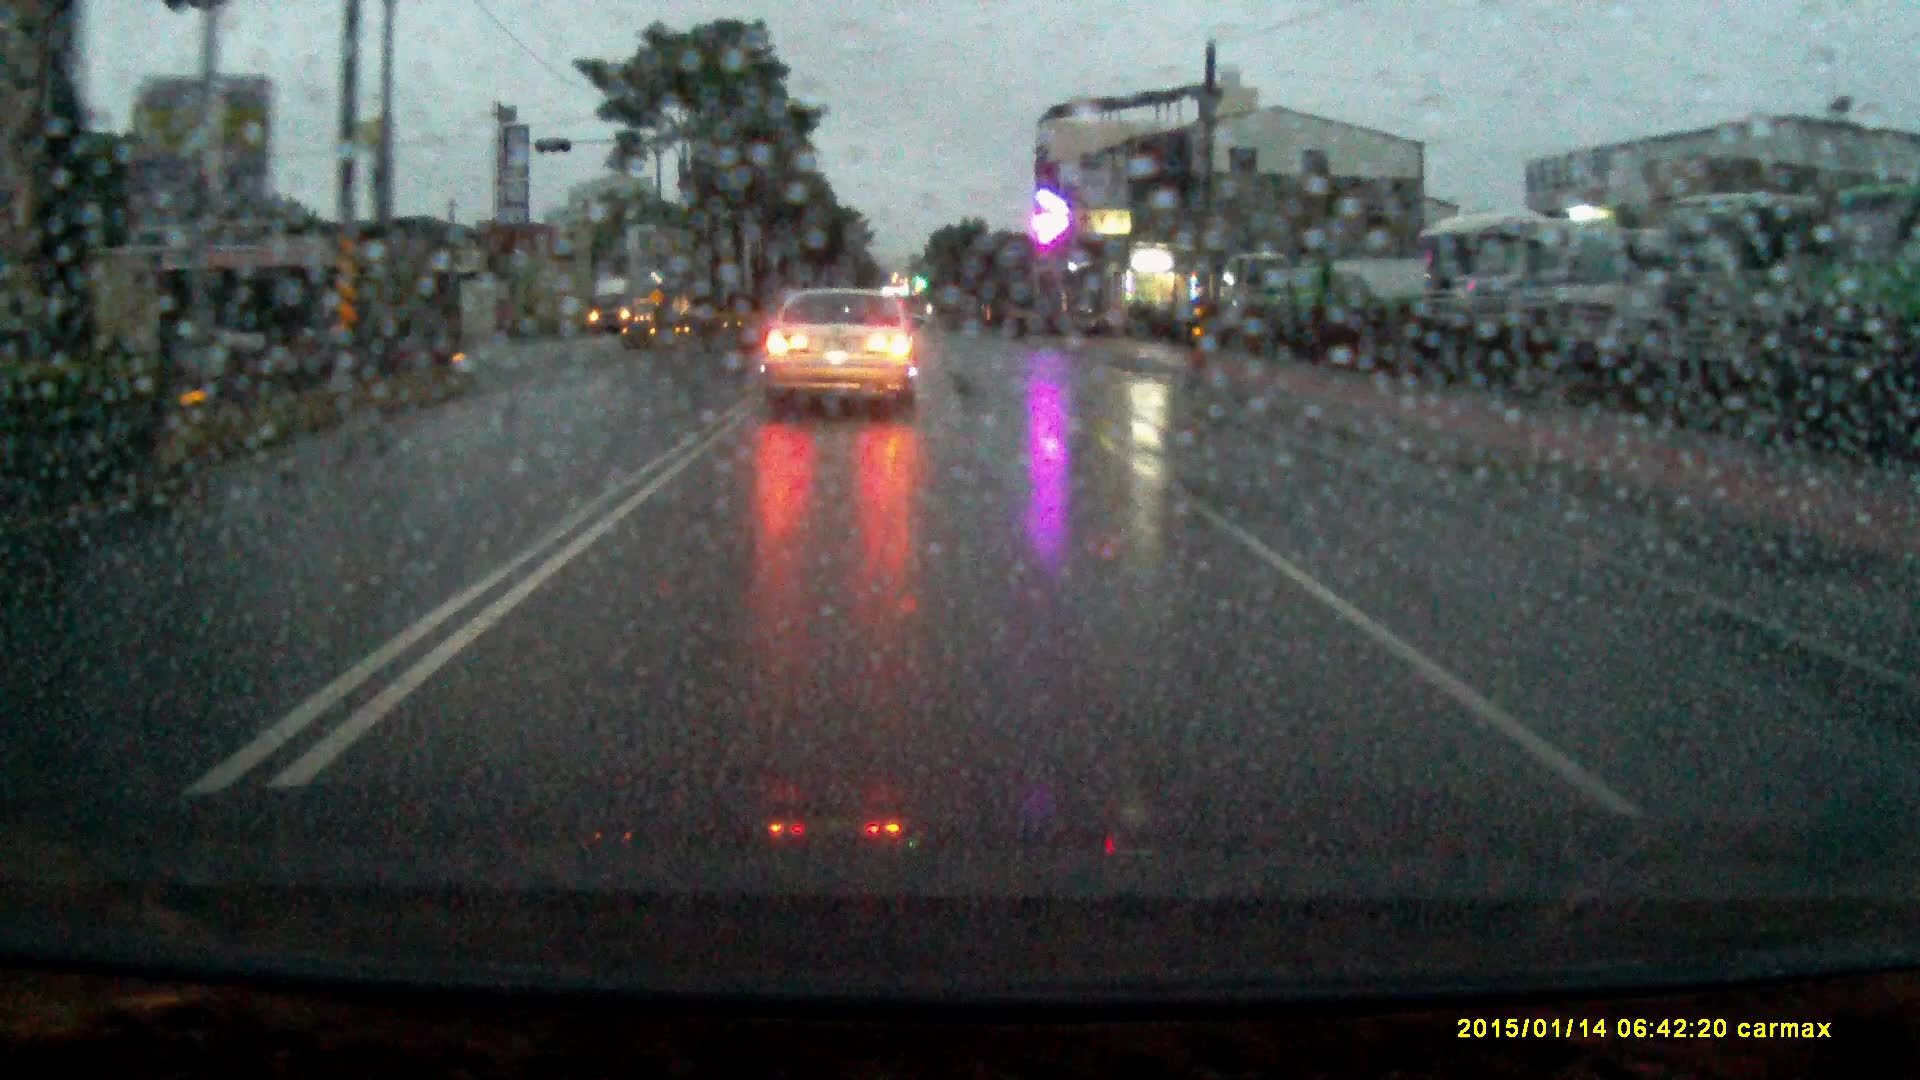vehicle: (1672, 187, 1826, 411), (1516, 222, 1677, 392), (761, 287, 923, 419), (1420, 214, 1528, 357), (1266, 257, 1429, 335), (1220, 249, 1291, 326), (589, 278, 651, 334)
